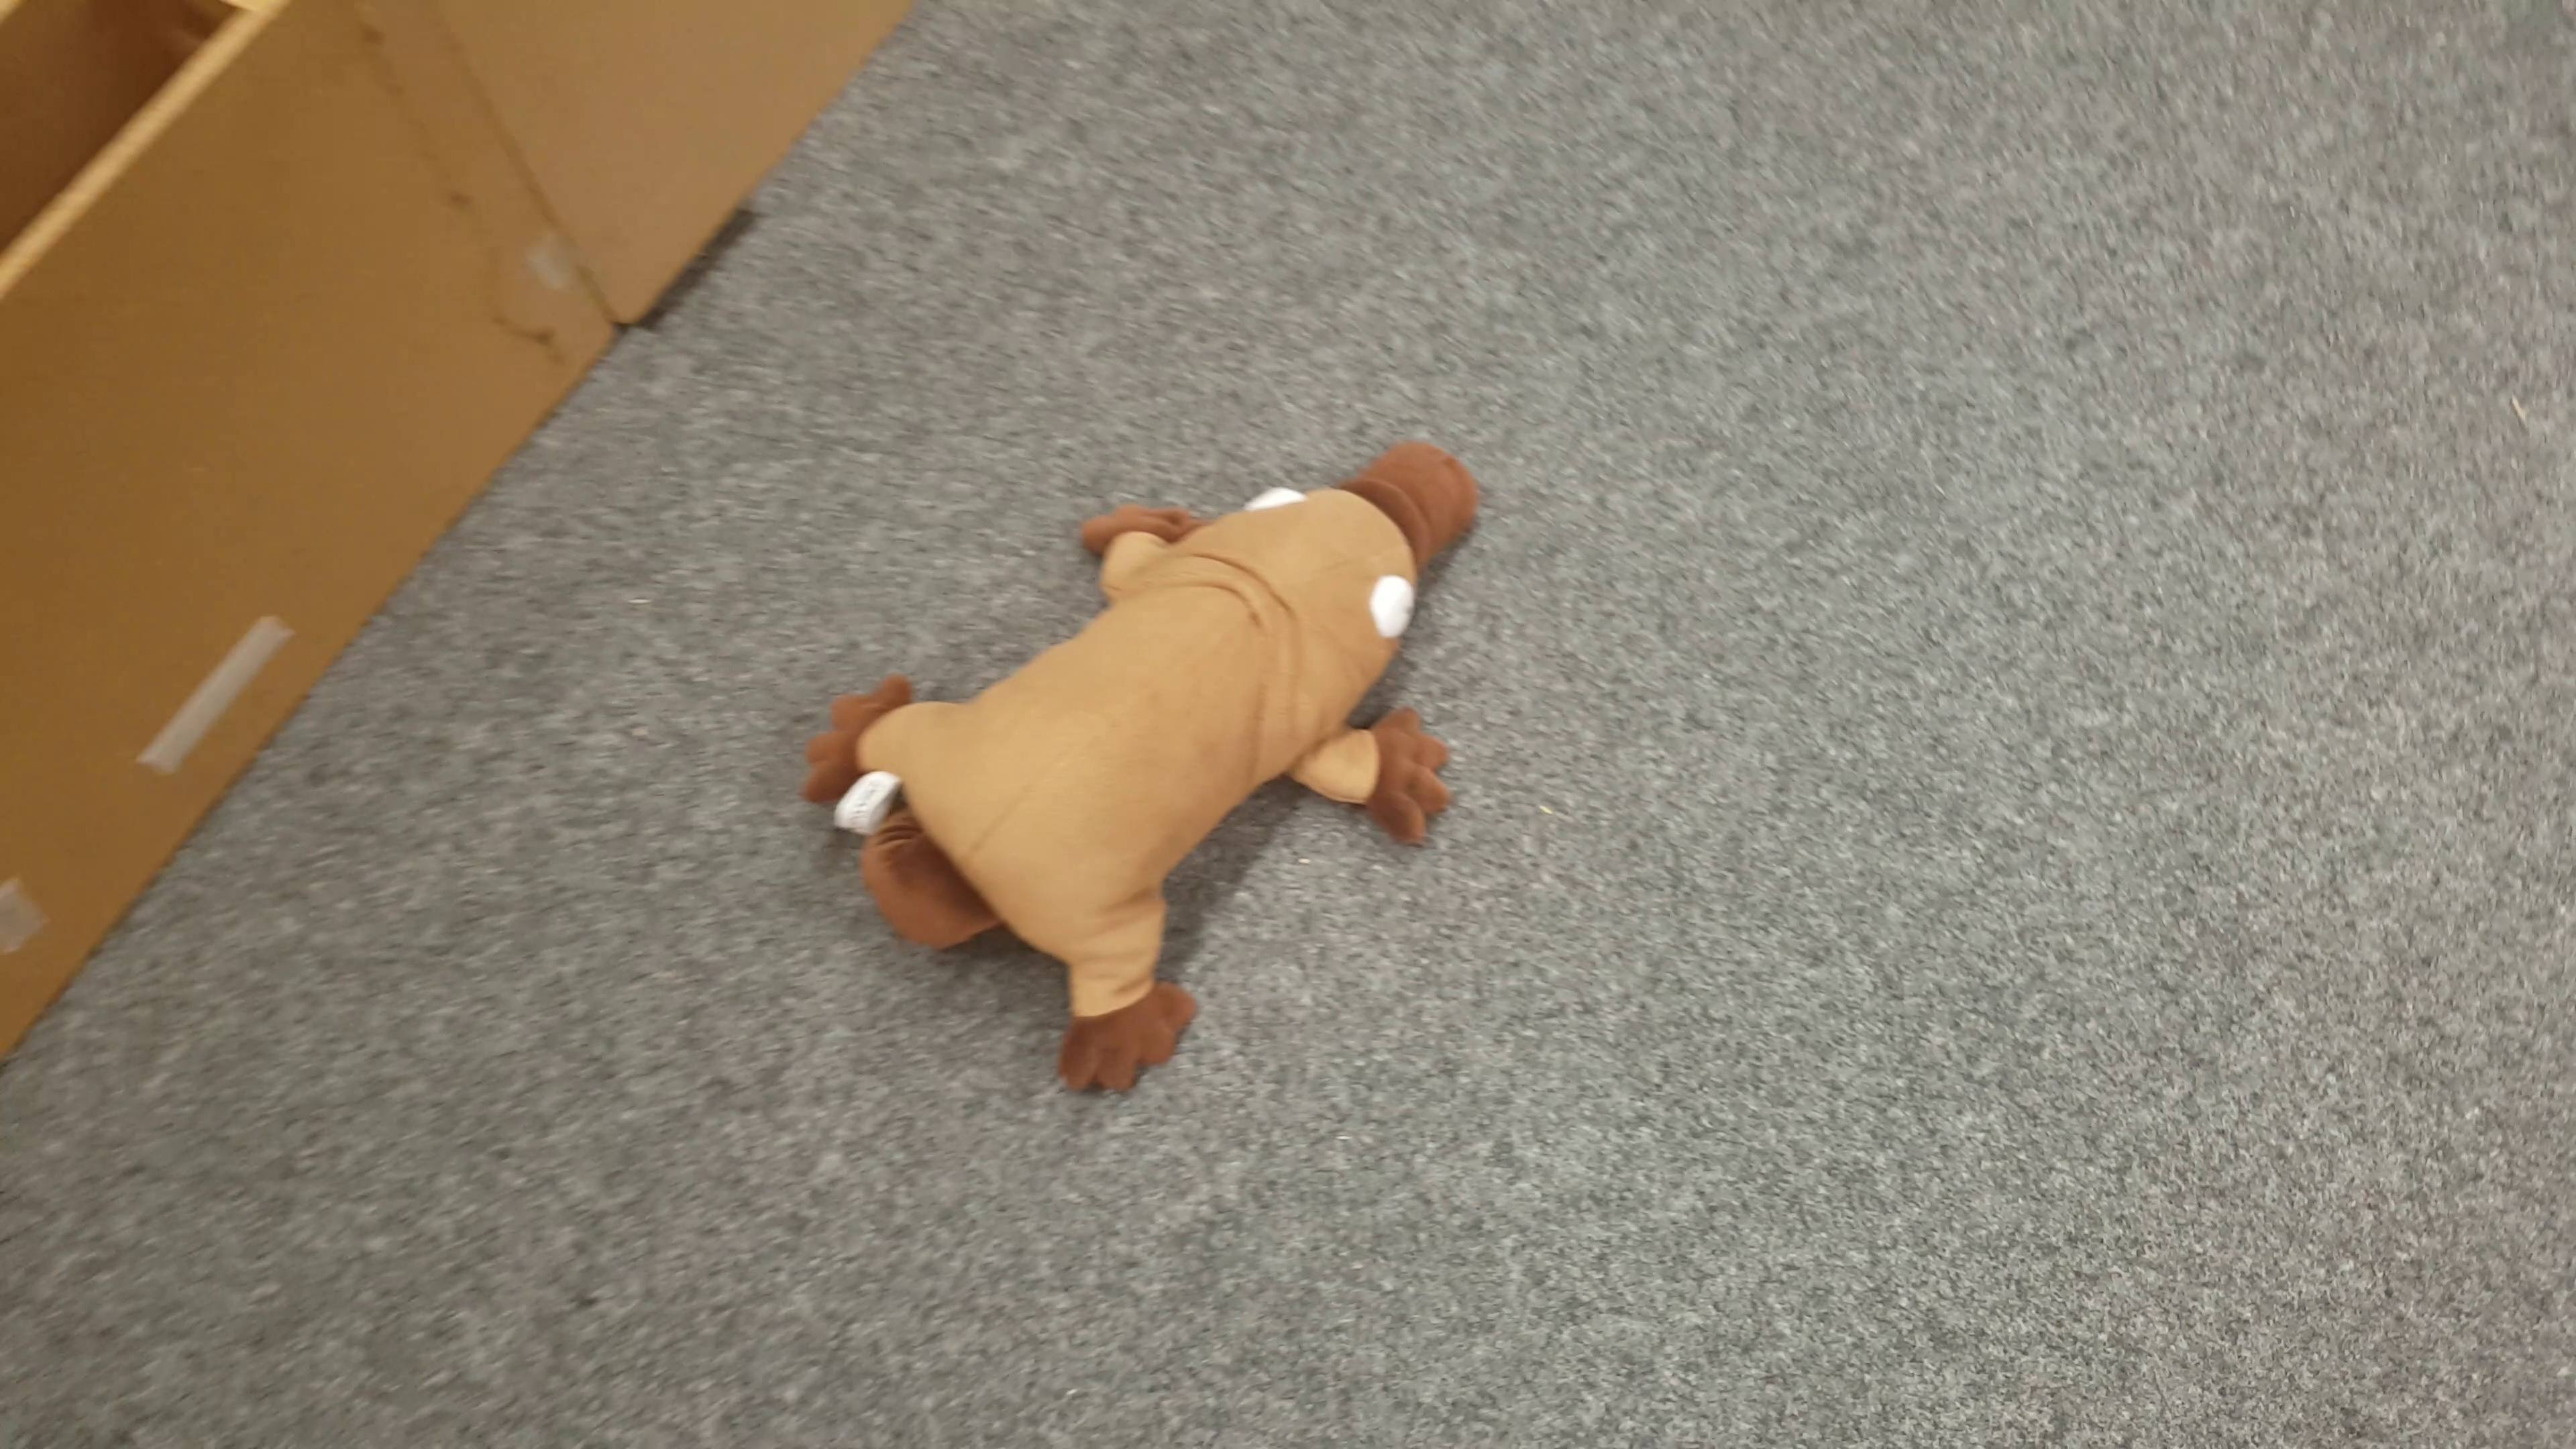grasp: (798, 441, 1481, 1095)
